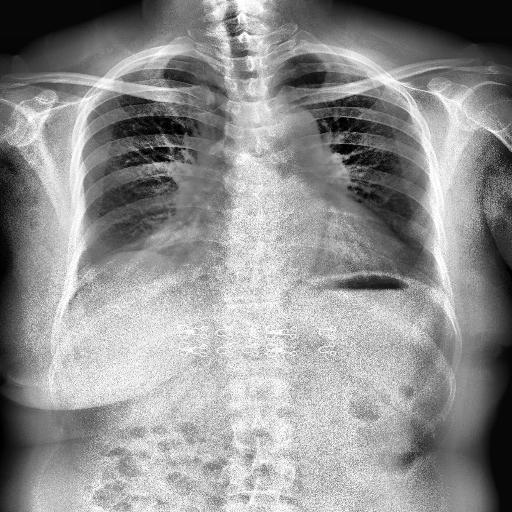0- Aortic enlargement: (246, 102, 326, 174), (264, 106, 326, 158), (264, 106, 324, 156)
3- Cardiomegaly: (174, 218, 412, 290), (180, 210, 412, 278), (182, 217, 414, 282)
